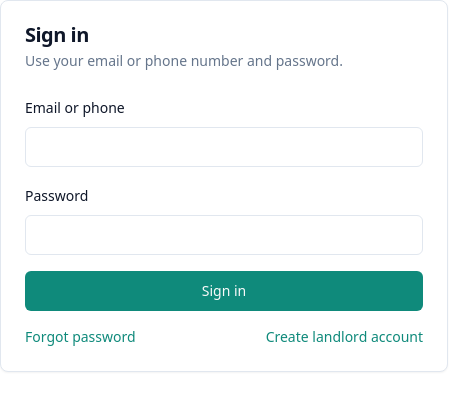
LoginPage › rejects malformed identifier inline
This screenshot has width=465, height=417.
Step 1. Type "not-an-email" into the field labelled "Email or phone" → x=224, y=147, box [25,127,423,167]
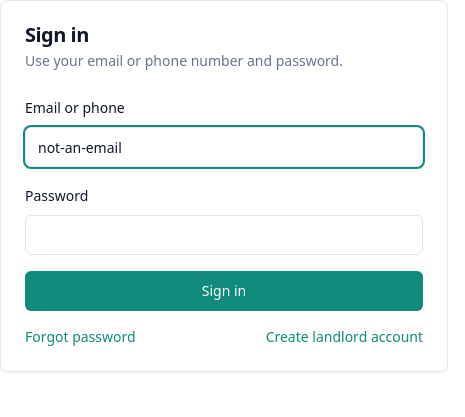
Step 2. Type "secret" into the password field labelled "Password" → x=224, y=235, box [25,215,423,255]
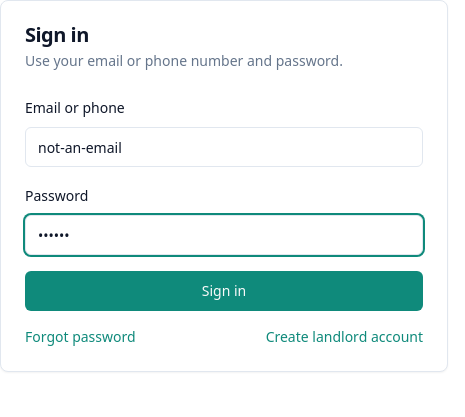
Step 3. Click the button "Sign in" → x=224, y=291, box [25,271,423,311]
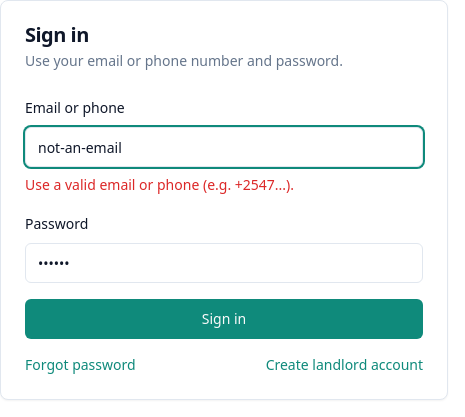
Expected: the text "Use a valid email or phone (e.g. +2547...)." is shown, [25,175,294,194]
